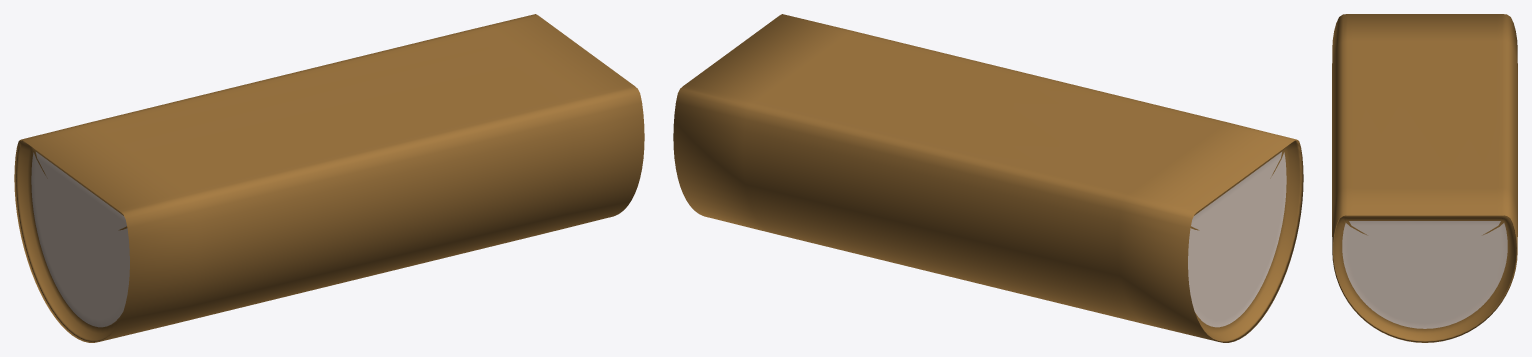
The model's file is log_bench.fbx.
The picture shows the model from 3 angles, left to right: view 1: azimuth 30°, elevation 25°; view 2: azimuth 150°, elevation 25°; view 3: azimuth 270°, elevation 25°; orthographic projection. The views are drawn at different scales.
Visible parts, largest first — view 1: Cylinder; view 2: Cylinder; view 3: Cylinder.
Boxes of the visible parts, <box> form: Cylinder: <box>14,14,644,342</box>; Cylinder: <box>673,14,1303,342</box>; Cylinder: <box>1332,14,1517,342</box>.
Size of the model in its own units: 106 by 31.29 by 41.18.
